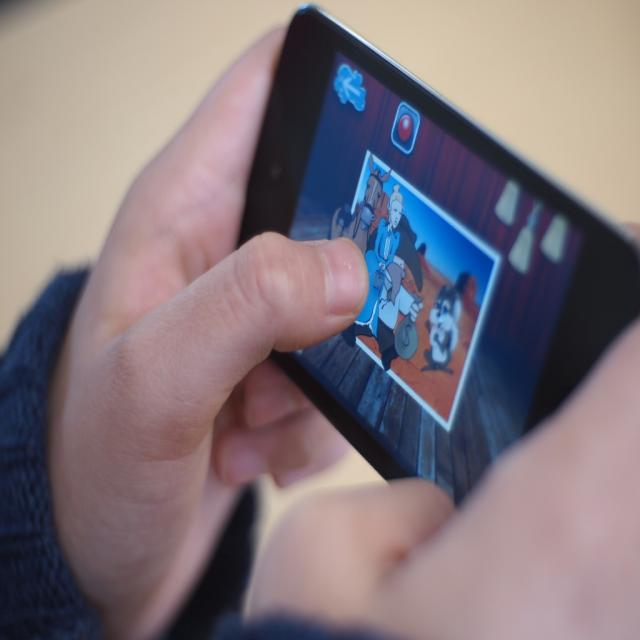Mobile-phone: (228, 0, 640, 483)
